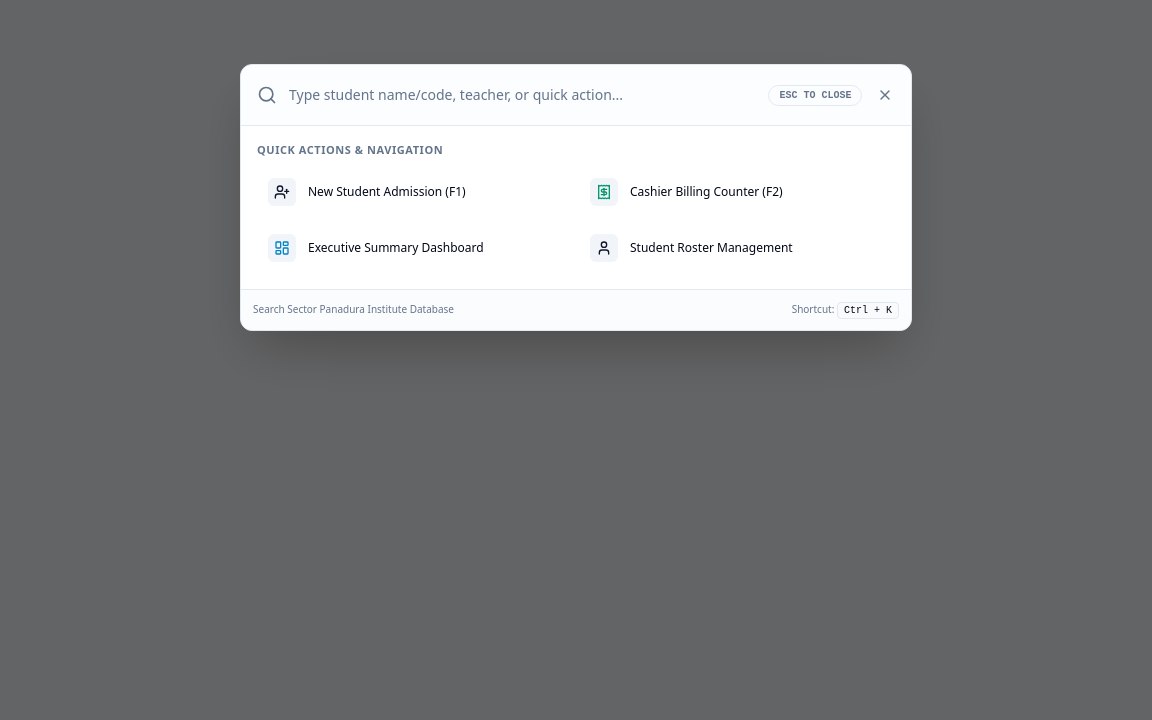
Test case: GlobalSearchModal › should filter quick actions based on search term
In the field with placeholder "Type student name/code, teacher, or quick action...": (523, 95) [289,85,756,105], type "Cashier"
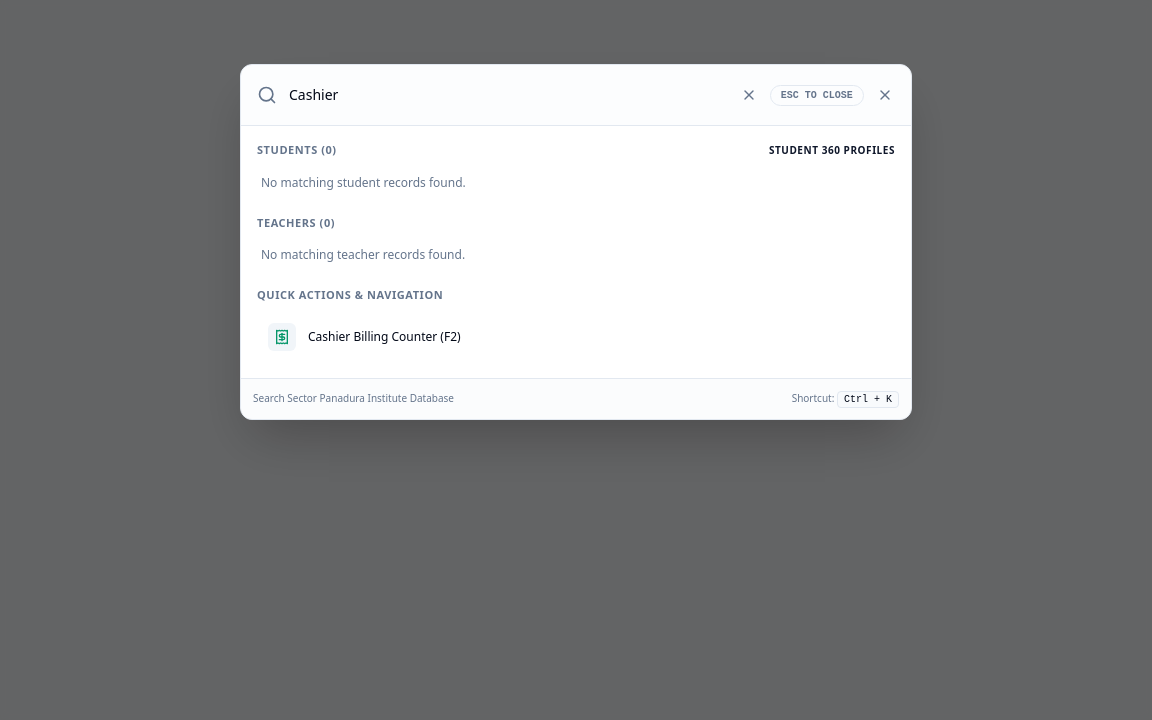
Result: the text "Cashier Billing Counter (F2)" is shown at [308,328,461,344]
Result: the text "Executive Summary Dashboard" is gone
